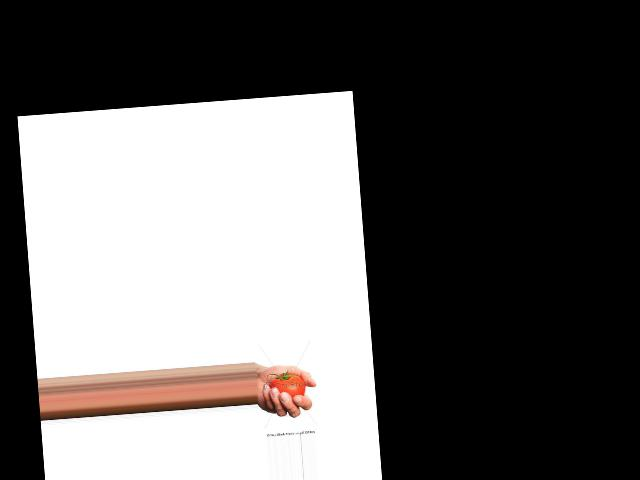tomato: (268, 371, 306, 398)
